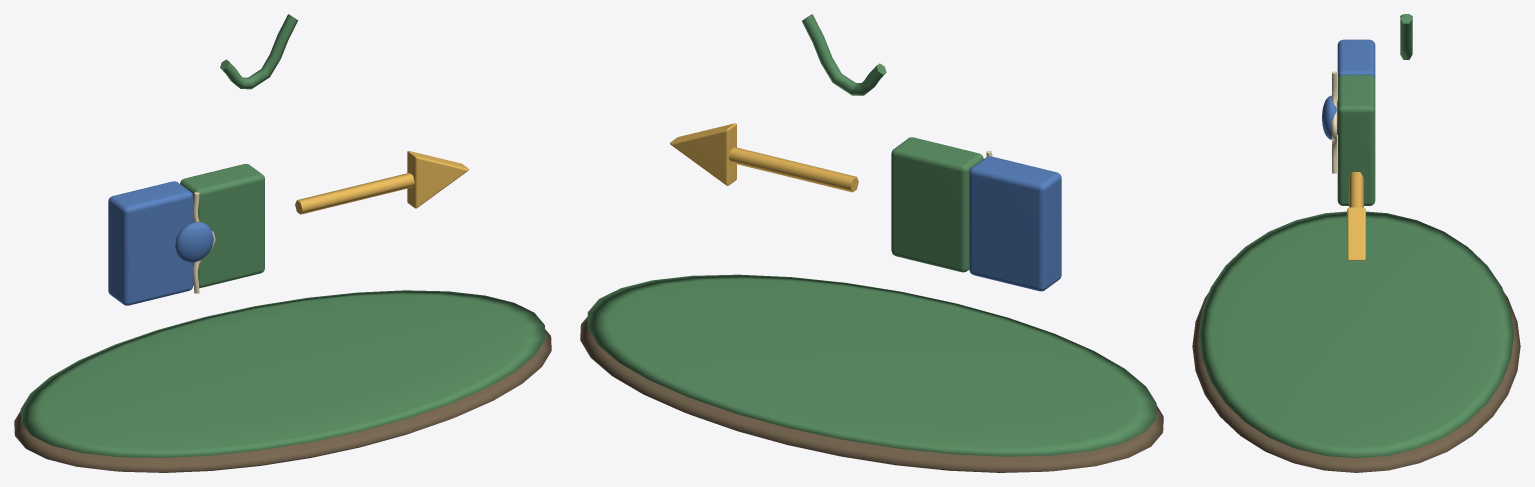
File: complete-third-fit-response.glb
3 renders of one model, left to right at view 1: azimuth 30°, elevation 25°; view 2: azimuth 150°, elevation 25°; view 3: azimuth 270°, elevation 25°, orthographic. The views are drawn at different scales.
Parts seen in each view (by area): view 1: complete-third-fit-response_surface_01, complete-third-fit-response_surface_02, complete-third-fit-response_surface_00, complete-third-fit-response_surface_04; view 2: complete-third-fit-response_surface_01, complete-third-fit-response_surface_02, complete-third-fit-response_surface_00, complete-third-fit-response_surface_04; view 3: complete-third-fit-response_surface_01, complete-third-fit-response_surface_00, complete-third-fit-response_surface_02, complete-third-fit-response_surface_04, complete-third-fit-response_surface_03.
Part boxes in pixels (bbox=[...]): complete-third-fit-response_surface_01: bbox=[20, 14, 545, 457]; complete-third-fit-response_surface_02: bbox=[108, 181, 213, 305]; complete-third-fit-response_surface_00: bbox=[14, 329, 551, 472]; complete-third-fit-response_surface_04: bbox=[295, 151, 469, 214]; complete-third-fit-response_surface_01: bbox=[587, 14, 1156, 456]; complete-third-fit-response_surface_02: bbox=[969, 156, 1061, 291]; complete-third-fit-response_surface_00: bbox=[580, 317, 1163, 472]; complete-third-fit-response_surface_04: bbox=[670, 123, 858, 192]; complete-third-fit-response_surface_01: bbox=[1199, 14, 1513, 458]; complete-third-fit-response_surface_00: bbox=[1192, 292, 1520, 472]; complete-third-fit-response_surface_02: bbox=[1322, 39, 1375, 139]; complete-third-fit-response_surface_04: bbox=[1347, 172, 1365, 260]; complete-third-fit-response_surface_03: bbox=[1332, 71, 1336, 173].
Bounding box in the file's own units: 4.56 × 3.05 × 2.5.
